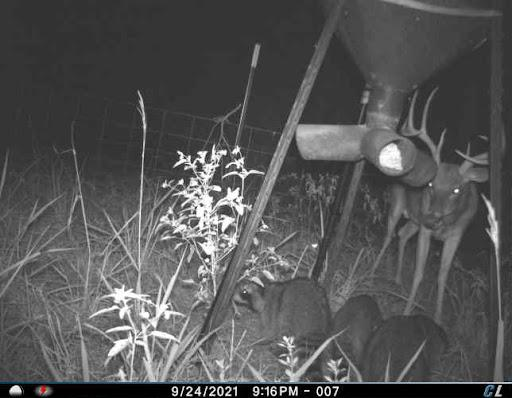Deer: (368, 84, 490, 335)
